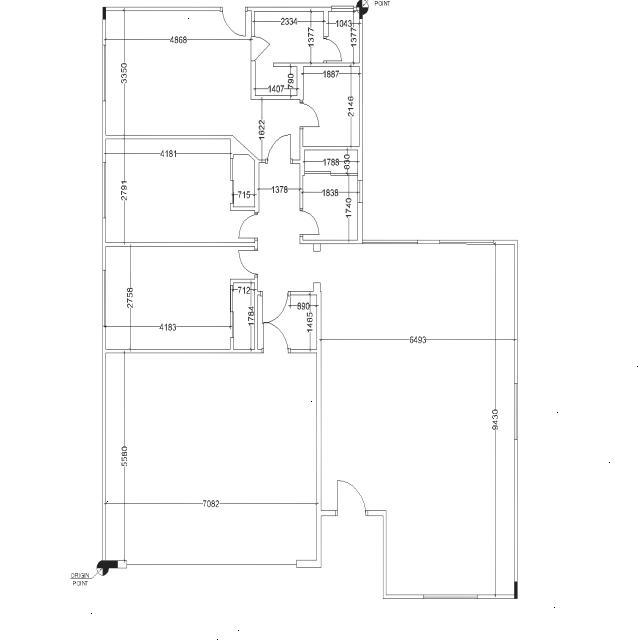Column: (102, 560, 118, 568), (514, 581, 518, 599), (102, 7, 106, 19), (359, 7, 363, 19)
Door: (335, 480, 368, 516), (260, 292, 290, 324), (262, 322, 290, 354), (220, 6, 246, 36), (266, 134, 292, 164), (238, 210, 259, 238), (300, 208, 320, 236), (238, 249, 258, 277), (324, 36, 342, 64), (300, 102, 320, 127), (250, 37, 270, 61)
Sliding Door: (304, 172, 358, 176), (230, 286, 234, 338), (230, 158, 234, 204)
Window: (102, 45, 106, 101), (102, 162, 106, 218), (102, 270, 106, 326), (362, 240, 418, 244), (423, 595, 478, 599), (514, 384, 518, 439), (439, 240, 494, 244), (332, 6, 354, 12), (358, 180, 362, 202)
